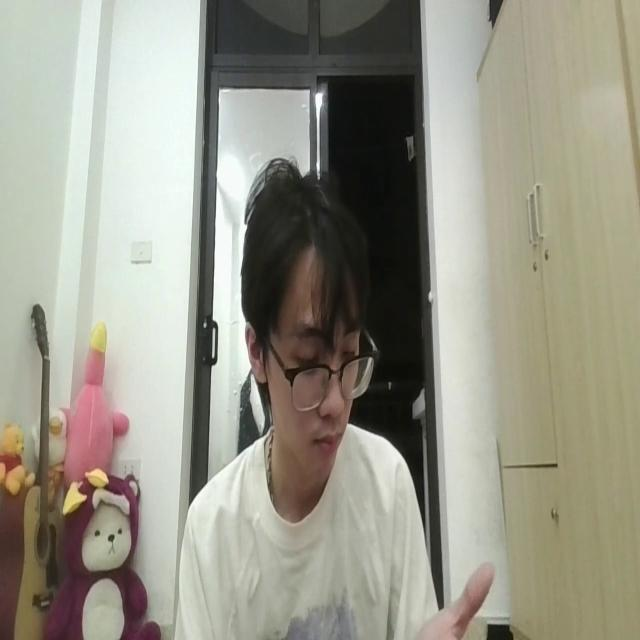student: (163, 153, 443, 640)
